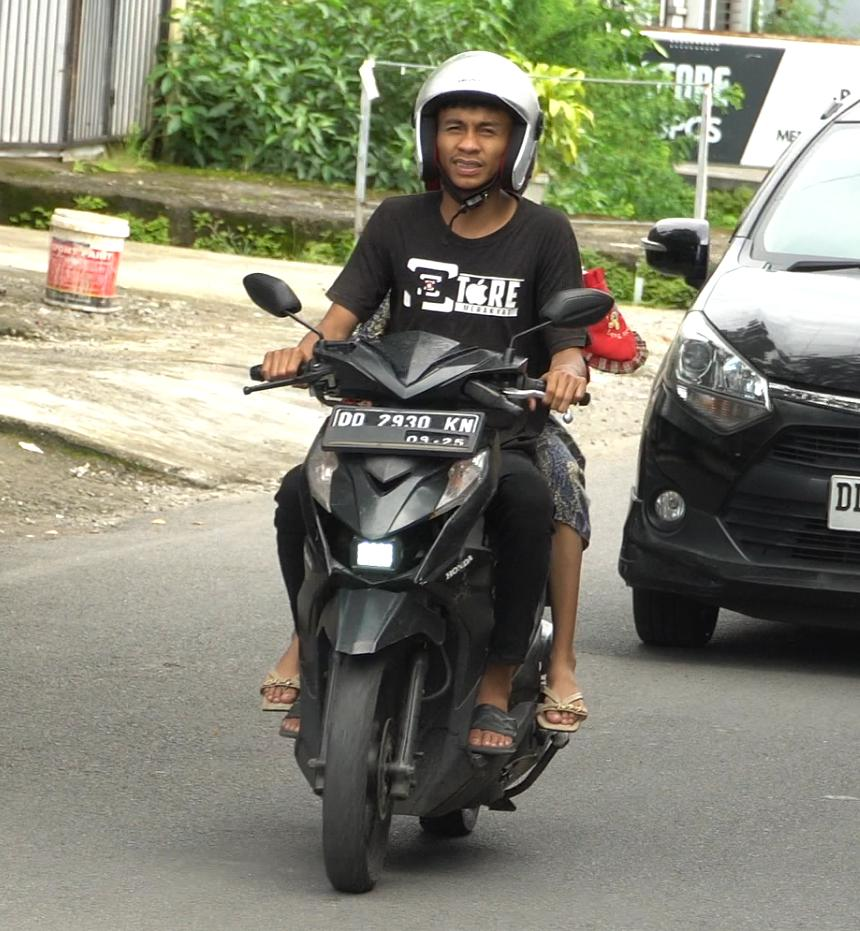number-plate: (323, 406, 484, 458)
